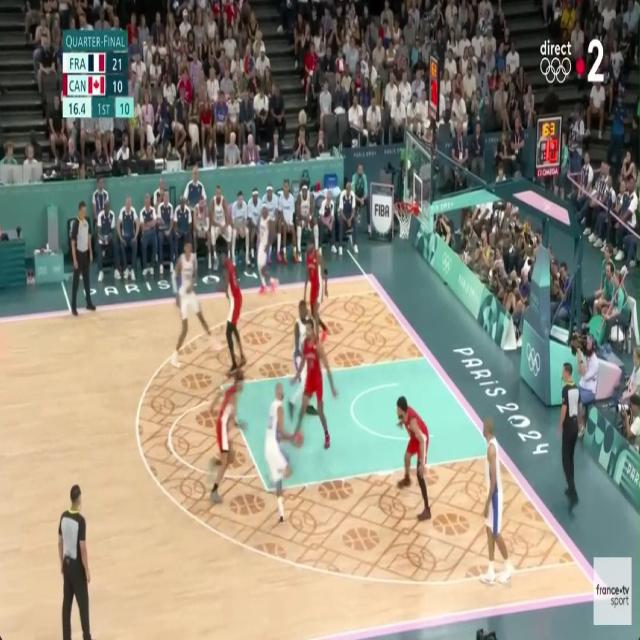ball_handler: (267, 383, 304, 518)
